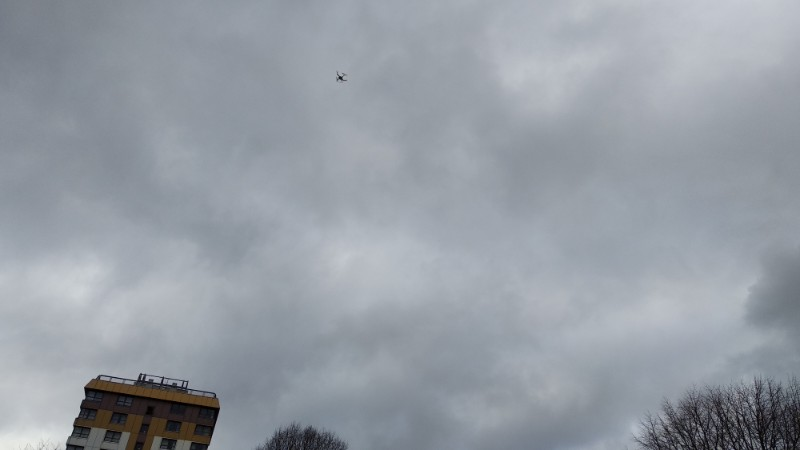drone: (333, 72, 349, 83)
